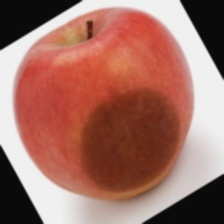apple: (44, 24, 223, 173)
